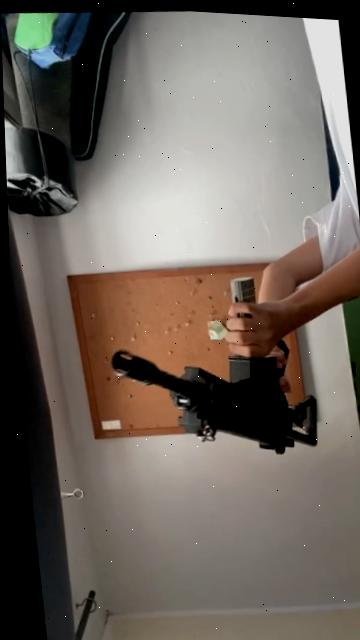rifle: (99, 263, 322, 480)
